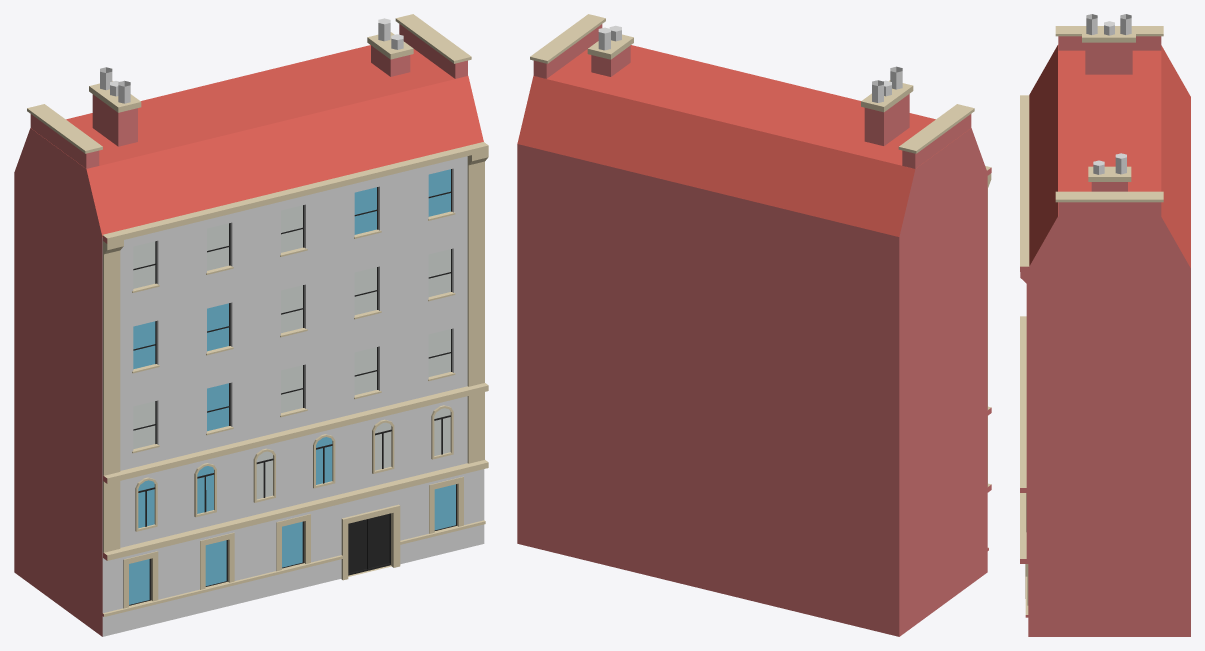
The model's file is Bloc_12F.fbx.
3 views of the same model, side by side, from view 1: azimuth 30°, elevation 25°; view 2: azimuth 150°, elevation 25°; view 3: azimuth 270°, elevation 25° (orthographic). The views are drawn at different scales.
Visible parts, largest first — view 1: Bloc_12F; view 2: Bloc_12F; view 3: Bloc_12F.
Boxes of the visible parts, <box> form: Bloc_12F: <box>14,14,488,636</box>; Bloc_12F: <box>517,14,991,636</box>; Bloc_12F: <box>1020,14,1190,636</box>.
Bounding box in the file's own units: 630 × 1932 × 1517.
